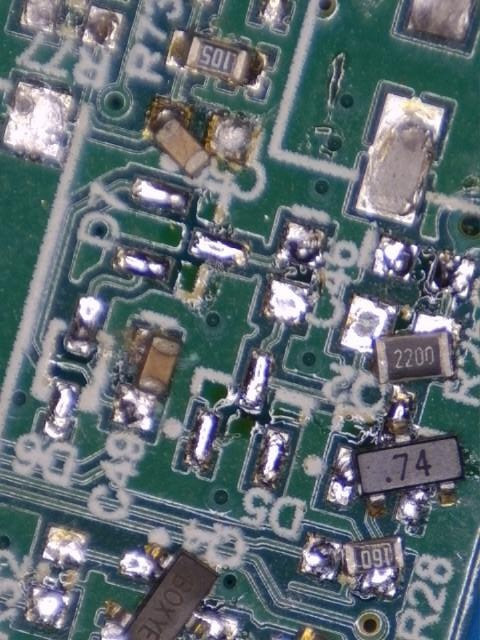pcb_defect: (324, 387, 465, 525), (100, 542, 239, 640), (340, 293, 463, 385), (142, 96, 258, 177), (110, 326, 182, 432), (298, 533, 405, 600)
